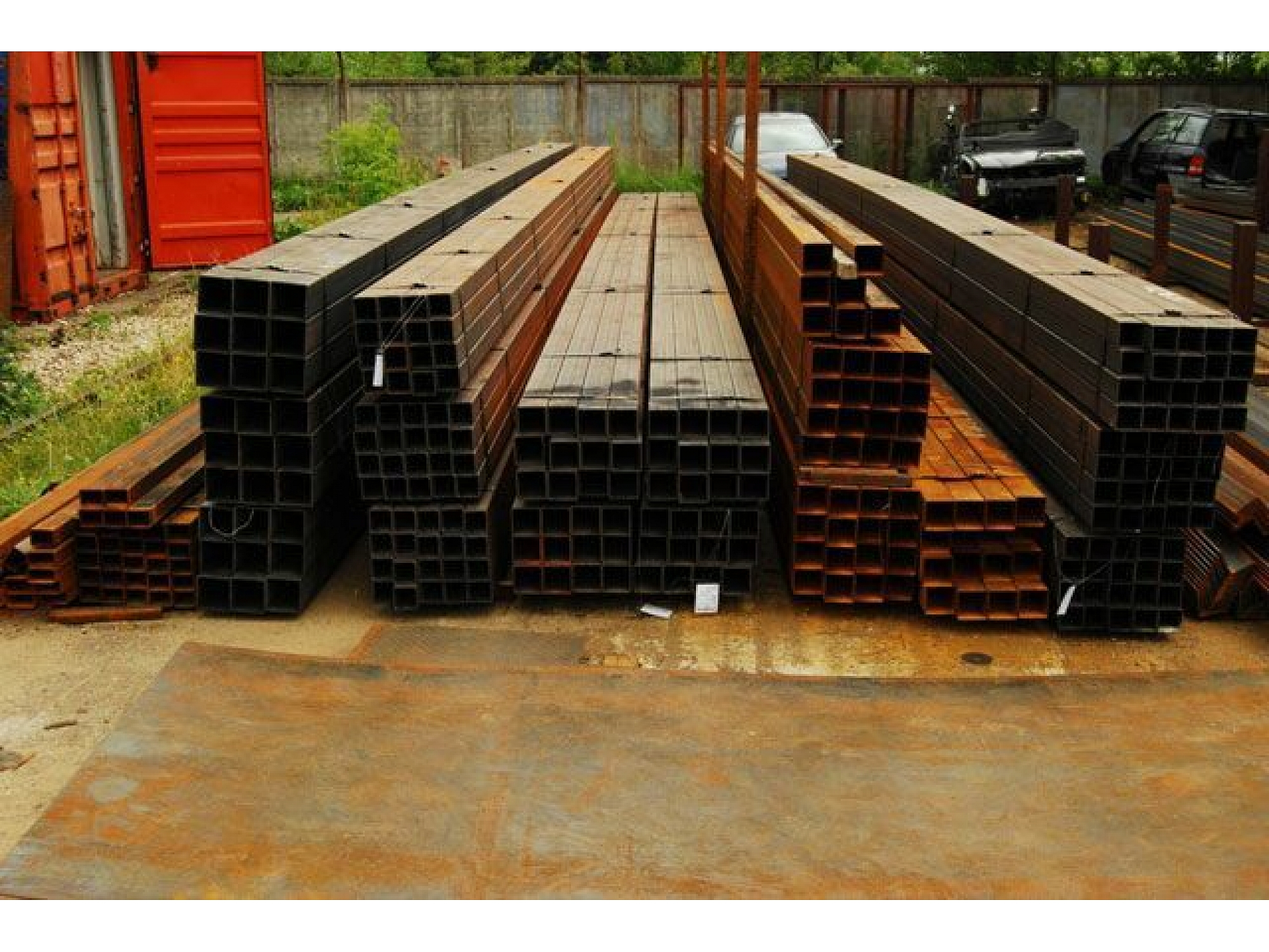truba: (236, 429, 273, 469), (274, 432, 311, 472), (271, 397, 308, 437), (198, 396, 235, 436), (229, 539, 266, 579), (267, 542, 304, 582), (201, 427, 237, 467), (239, 470, 275, 510), (277, 469, 313, 509), (200, 466, 236, 506), (234, 396, 270, 436), (194, 537, 230, 577), (229, 578, 265, 618), (267, 580, 303, 620), (193, 576, 229, 616), (233, 501, 269, 541), (271, 503, 307, 543), (197, 498, 233, 538), (229, 316, 265, 356), (267, 318, 303, 358), (193, 314, 229, 354), (228, 355, 264, 395), (266, 357, 302, 397), (192, 352, 228, 392), (232, 277, 268, 317), (196, 275, 232, 315), (270, 280, 306, 319), (568, 538, 599, 567), (599, 539, 630, 568), (671, 538, 702, 567), (571, 565, 602, 594), (602, 565, 633, 594), (540, 504, 571, 533), (640, 506, 671, 535), (672, 506, 703, 535), (647, 442, 678, 471), (516, 440, 547, 469), (865, 409, 896, 438), (896, 411, 927, 440), (841, 380, 872, 409), (810, 377, 841, 406), (855, 583, 886, 612), (827, 521, 858, 550), (1010, 551, 1041, 580), (1169, 405, 1200, 434), (1117, 378, 1148, 407), (1231, 328, 1262, 357), (640, 538, 670, 567), (700, 539, 730, 568), (731, 539, 761, 568), (569, 506, 599, 535), (600, 507, 630, 536), (701, 507, 731, 536), (732, 507, 762, 536), (576, 442, 606, 471), (679, 442, 709, 471), (577, 473, 607, 502), (648, 473, 678, 502), (680, 473, 710, 502), (517, 471, 547, 500), (577, 410, 607, 439), (608, 411, 638, 440), (648, 410, 678, 439), (680, 410, 710, 439), (709, 411, 739, 440), (740, 411, 770, 440), (802, 279, 832, 308), (835, 275, 865, 304), (801, 309, 831, 338), (834, 310, 864, 339), (834, 437, 864, 466), (864, 440, 894, 469), (895, 442, 925, 471), (803, 435, 833, 464), (835, 406, 865, 435), (804, 404, 834, 433), (872, 383, 902, 412), (903, 384, 933, 413), (873, 352, 903, 381), (904, 353, 934, 382), (812, 346, 842, 375), (803, 245, 833, 274), (887, 583, 917, 612), (796, 576, 826, 605), (857, 551, 887, 580), (889, 551, 919, 580), (797, 544, 827, 573), (829, 489, 859, 518), (925, 502, 955, 531), (1141, 404, 1171, 433), (957, 592, 987, 621), (1020, 588, 1050, 617), (921, 553, 951, 582), (980, 552, 1010, 581), (1015, 495, 1045, 524), (1196, 405, 1226, 434), (1222, 406, 1252, 435), (1146, 378, 1176, 407), (1175, 380, 1205, 409), (1201, 380, 1231, 409), (1145, 351, 1175, 380), (1226, 353, 1256, 382), (1116, 351, 1146, 380), (1179, 327, 1209, 356), (1205, 327, 1235, 356), (1112, 404, 1142, 433), (540, 567, 571, 595), (509, 568, 540, 596), (547, 440, 578, 468), (827, 550, 858, 578), (858, 491, 889, 519), (1173, 353, 1204, 381), (1121, 326, 1152, 354), (540, 536, 570, 564), (509, 537, 539, 565), (636, 568, 666, 596), (666, 568, 696, 596), (693, 568, 723, 596), (723, 568, 753, 596), (510, 505, 540, 533), (607, 443, 637, 471), (708, 443, 738, 471), (739, 443, 769, 471), (548, 471, 578, 499), (608, 474, 638, 502), (709, 474, 739, 502), (740, 474, 770, 502), (548, 408, 578, 436), (854, 246, 884, 274), (518, 409, 548, 437), (872, 308, 902, 336), (826, 582, 856, 610), (843, 349, 873, 377), (857, 523, 887, 551), (889, 523, 919, 551), (797, 516, 827, 544), (799, 484, 829, 512), (953, 502, 983, 530), (985, 502, 1015, 530), (924, 585, 954, 613), (989, 592, 1019, 620), (890, 491, 920, 519), (1228, 381, 1258, 409), (1200, 353, 1230, 381), (1150, 326, 1180, 354), (383, 370, 409, 399), (406, 369, 432, 398), (431, 368, 457, 397), (359, 369, 385, 398), (381, 345, 407, 374), (357, 343, 383, 372), (378, 321, 404, 350), (354, 319, 380, 348), (426, 319, 452, 347), (400, 294, 426, 322), (405, 343, 430, 372), (402, 319, 427, 348), (377, 295, 402, 324), (425, 293, 450, 322), (1173, 434, 1200, 460), (1093, 481, 1120, 507), (1121, 481, 1148, 507), (1058, 609, 1085, 635), (1110, 609, 1137, 635), (1058, 558, 1085, 584), (1110, 558, 1137, 584), (1156, 561, 1183, 587), (430, 343, 455, 371), (353, 294, 378, 322), (1148, 433, 1174, 459), (1200, 434, 1226, 460), (1095, 454, 1121, 480), (1146, 459, 1172, 485), (1171, 459, 1197, 485), (1197, 459, 1223, 485), (1169, 482, 1195, 508), (1191, 482, 1217, 508), (1121, 507, 1147, 533), (1165, 509, 1191, 535), (1190, 509, 1216, 535), (1099, 430, 1125, 456), (1088, 587, 1114, 613), (1110, 585, 1136, 611), (1084, 610, 1110, 636), (1091, 506, 1117, 532), (1110, 534, 1136, 560), (1084, 559, 1110, 585), (1124, 433, 1151, 458), (1121, 457, 1148, 482), (1145, 484, 1172, 509), (1134, 588, 1161, 613), (1156, 613, 1183, 638), (1134, 537, 1161, 562), (1062, 588, 1088, 613), (1143, 509, 1169, 534), (1157, 588, 1183, 613), (1133, 612, 1159, 637), (1062, 537, 1088, 562), (1088, 536, 1114, 561), (1157, 537, 1183, 562), (1133, 561, 1159, 586), (440, 585, 464, 609), (464, 585, 487, 609), (392, 559, 416, 582), (416, 560, 440, 583), (464, 561, 488, 584), (368, 534, 392, 557), (392, 509, 415, 533), (440, 511, 464, 534), (369, 509, 392, 533), (392, 584, 415, 607), (416, 585, 439, 608), (369, 584, 392, 607), (441, 561, 464, 584), (370, 559, 393, 582), (391, 534, 414, 557), (415, 535, 438, 558), (440, 536, 463, 559), (463, 536, 486, 559), (416, 510, 439, 533), (464, 511, 487, 534), (380, 477, 402, 501), (357, 478, 379, 502), (379, 453, 401, 477), (404, 452, 426, 476), (428, 454, 450, 478), (402, 427, 424, 451), (426, 429, 448, 453), (451, 429, 473, 453), (355, 429, 377, 453), (450, 405, 472, 429), (354, 405, 376, 429), (405, 476, 426, 500), (429, 478, 450, 502), (454, 478, 475, 502), (453, 454, 474, 478), (357, 454, 378, 478), (378, 428, 399, 452), (377, 404, 398, 428), (402, 403, 423, 427), (426, 405, 447, 429)
